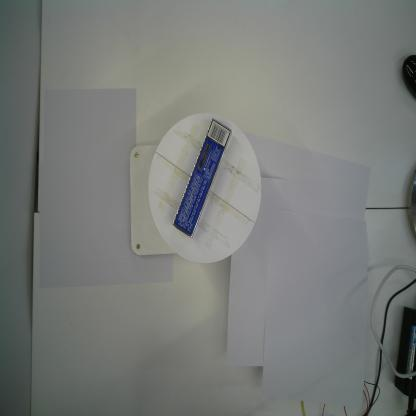Personal Hygiene: (171, 119, 234, 240)
